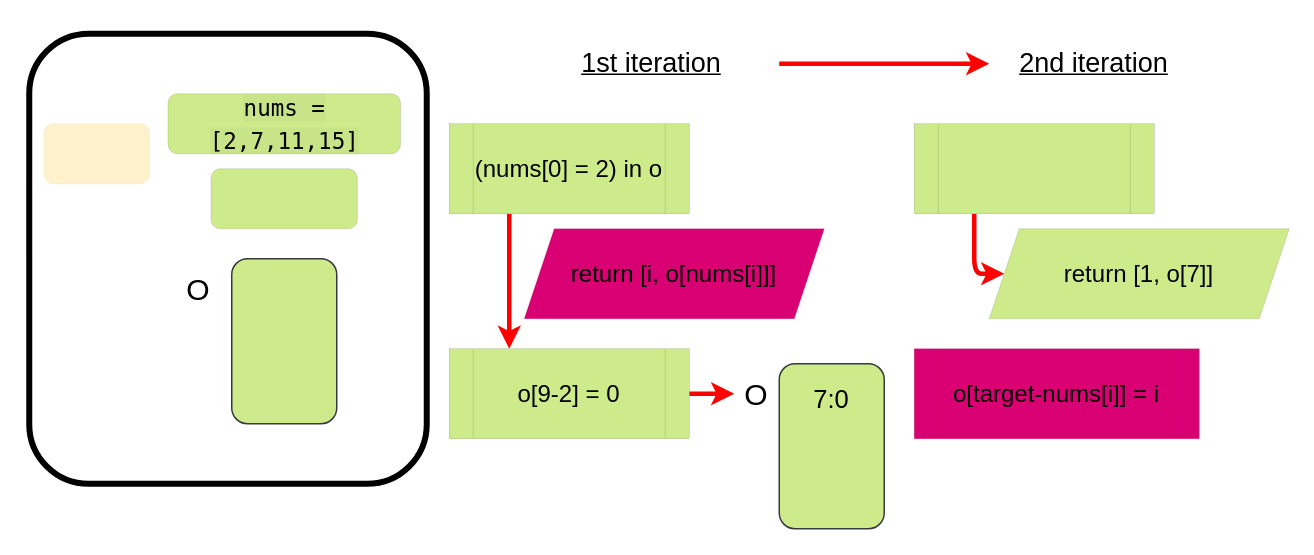
Image size: 1314x555. Some labels were removed from this diagram. The centre of each missing label's shape, as x and y in pixels:
(nums[1] = 7) in o: (x=1034, y=168)
Input:: (x=96, y=153)
t arget = 9: (x=283, y=198)
